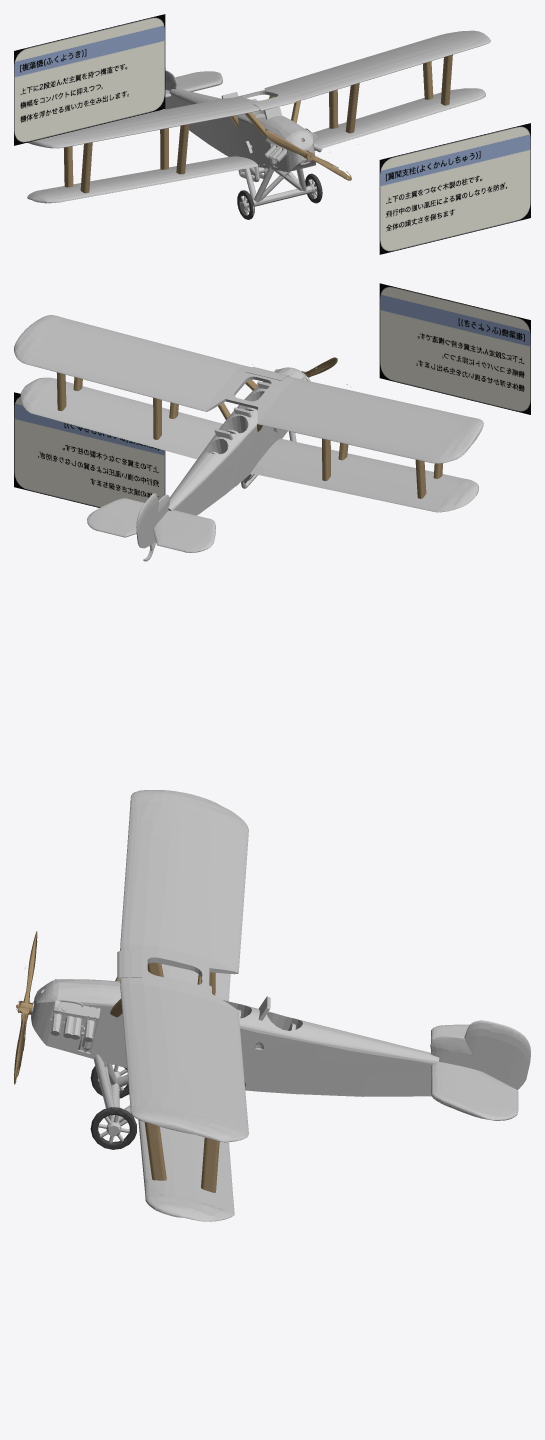
The model's file is ARtest.glb.
3 renders of one model, top to bottom at view 1: azimuth 30°, elevation 25°; view 2: azimuth 150°, elevation 25°; view 3: azimuth 270°, elevation 25°, orthographic. The views are drawn at different scales.
Parts seen in each view (by area): view 1: hokkai1gou_5_002, 翼間支柱, 複葉機, wing strut, propeller, tire; view 2: hokkai1gou_5_002, 複葉機, 翼間支柱, wing strut; view 3: hokkai1gou_5_002, wing strut, tire, propeller.
Part boxes in pixels (x1=…): hokkai1gou_5_002: x1=27, y1=30, x2=490, y2=215; 翼間支柱: x1=379, y1=123, x2=530, y2=254; 複葉機: x1=14, y1=14, x2=165, y2=145; wing strut: x1=63, y1=54, x2=452, y2=193; propeller: x1=265, y1=130, x2=351, y2=180; tire: x1=237, y1=173, x2=322, y2=219; hokkai1gou_5_002: x1=14, y1=315, x2=483, y2=561; 複葉機: x1=379, y1=283, x2=530, y2=414; 翼間支柱: x1=14, y1=392, x2=165, y2=507; wing strut: x1=56, y1=372, x2=443, y2=498; hokkai1gou_5_002: x1=16, y1=790, x2=530, y2=1221; wing strut: x1=110, y1=962, x2=219, y2=1192; tire: x1=90, y1=1064, x2=136, y2=1149; propeller: x1=14, y1=931, x2=37, y2=1084.
Size of the model in its own units: 34.19 by 18.53 by 19.33.
Materials: 6 (2 with a texture image).
